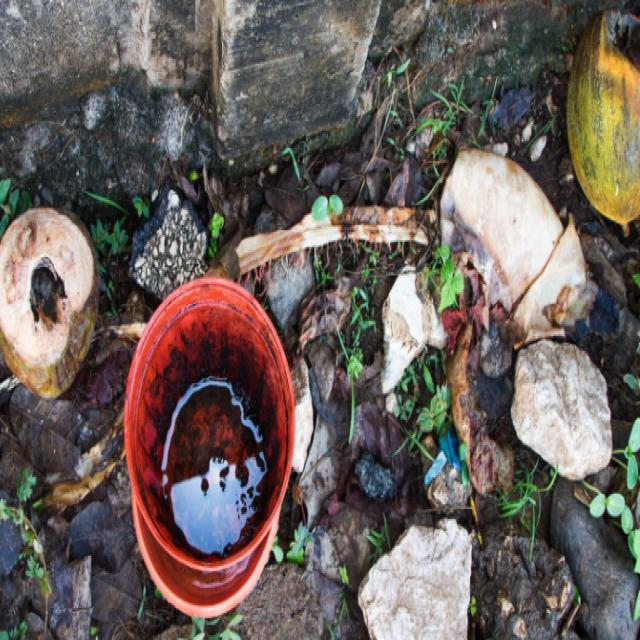Breeding Place: (123, 274, 303, 616)
